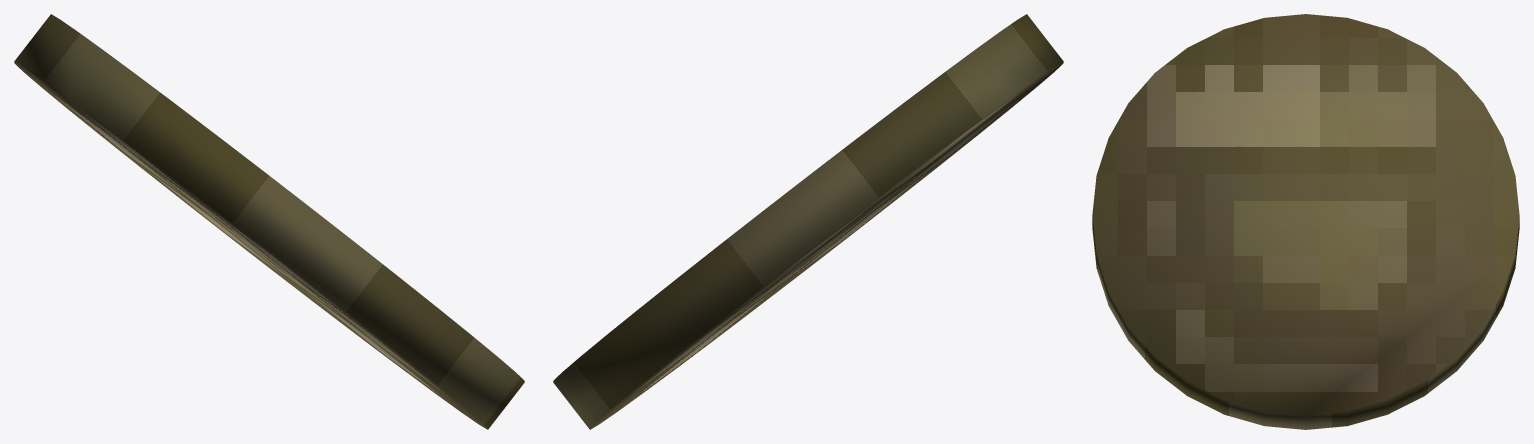
Rendered from IronCoin.fbx.
3 renders of one model, left to right at view 1: azimuth 30°, elevation 25°; view 2: azimuth 150°, elevation 25°; view 3: azimuth 270°, elevation 25°, orthographic. The views are drawn at different scales.
Parts seen in each view (by area): view 1: Cylinder; view 2: Cylinder; view 3: Cylinder.
Part boxes in pixels (bbox=[...]): Cylinder: bbox=[14, 14, 524, 429]; Cylinder: bbox=[553, 14, 1063, 429]; Cylinder: bbox=[1092, 14, 1519, 429].
Size of the model in its own units: 342 by 342 by 440.
Materials: 1 (1 with a texture image).
